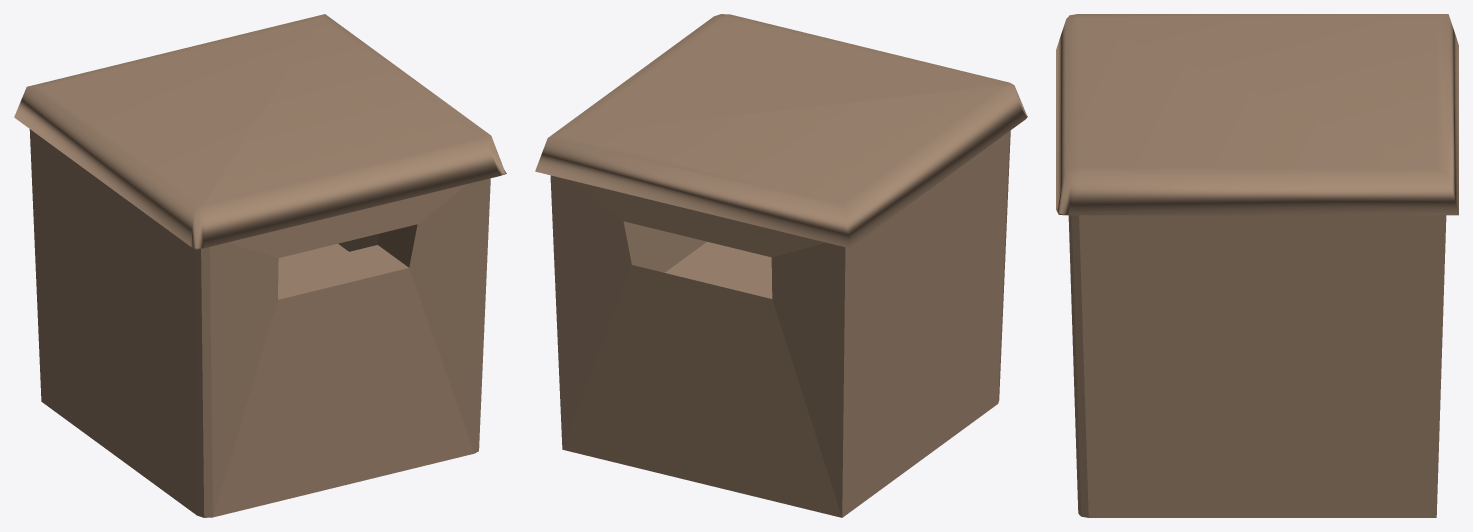
The picture shows the model from 3 angles, left to right: view 1: azimuth 30°, elevation 25°; view 2: azimuth 150°, elevation 25°; view 3: azimuth 270°, elevation 25°; orthographic projection. The views are drawn at different scales.
Parts seen in each view (by area): view 1: Cube.052; view 2: Cube.052; view 3: Cube.052.
Boxes of the visible parts, x1,y1,x2,y2 form: Cube.052: (14, 14, 506, 517); Cube.052: (535, 14, 1027, 517); Cube.052: (1056, 14, 1458, 517).
Size of the model in its own units: 33.23 by 31.73 by 33.23.
